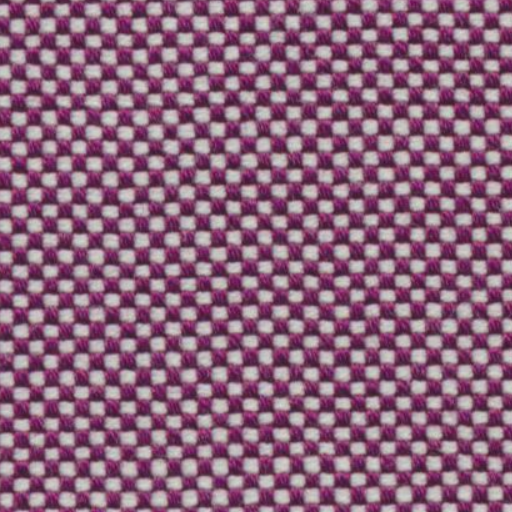TuoSha: (8, 63, 500, 138)
